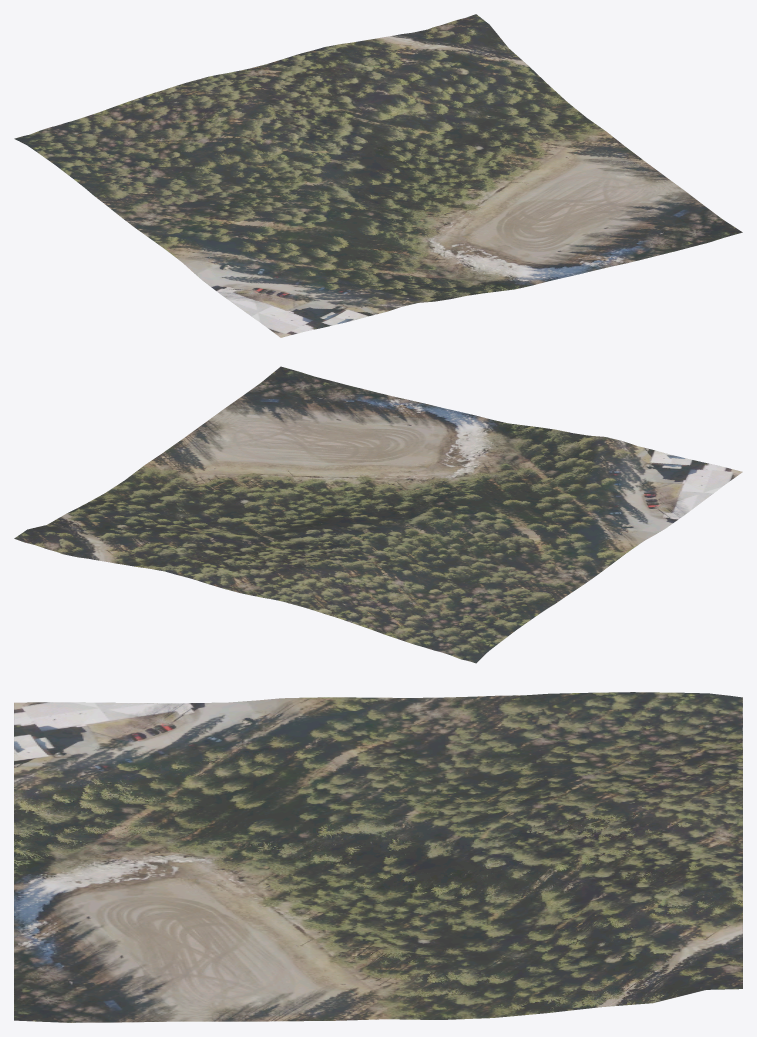
Rendered from CM_Terrain_24488820_6822251.fbx.
The picture shows the model from 3 angles, top to bottom: view 1: azimuth 30°, elevation 25°; view 2: azimuth 150°, elevation 25°; view 3: azimuth 270°, elevation 25°; orthographic projection. The views are drawn at different scales.
Parts seen in each view (by area): view 1: CM_Terrain_24488820_6822251_LOD0; view 2: CM_Terrain_24488820_6822251_LOD0; view 3: CM_Terrain_24488820_6822251_LOD0.
Part boxes in pixels (x1,y1,x2,y2): CM_Terrain_24488820_6822251_LOD0: (14,14,742,337); CM_Terrain_24488820_6822251_LOD0: (14,366,742,663); CM_Terrain_24488820_6822251_LOD0: (14,692,742,1022).
Size of what is drawn, in the model's own units: 205 by 12.9 by 205.
